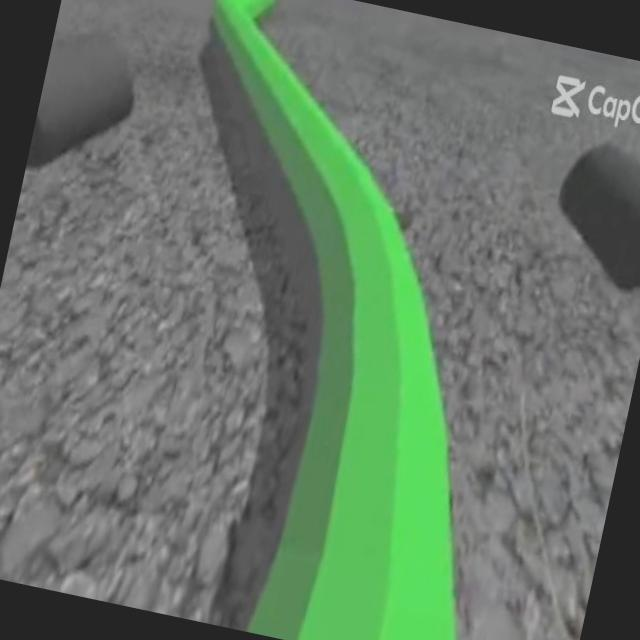gas: (127, 49, 580, 640)
